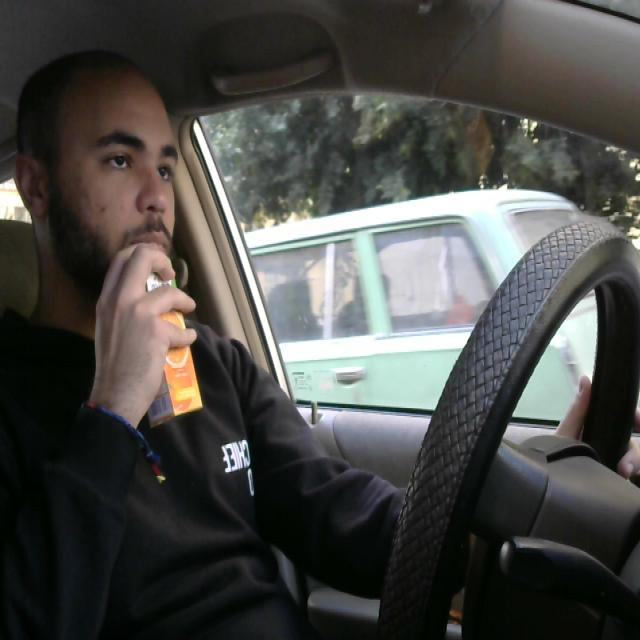drinking: (122, 253, 208, 430)
